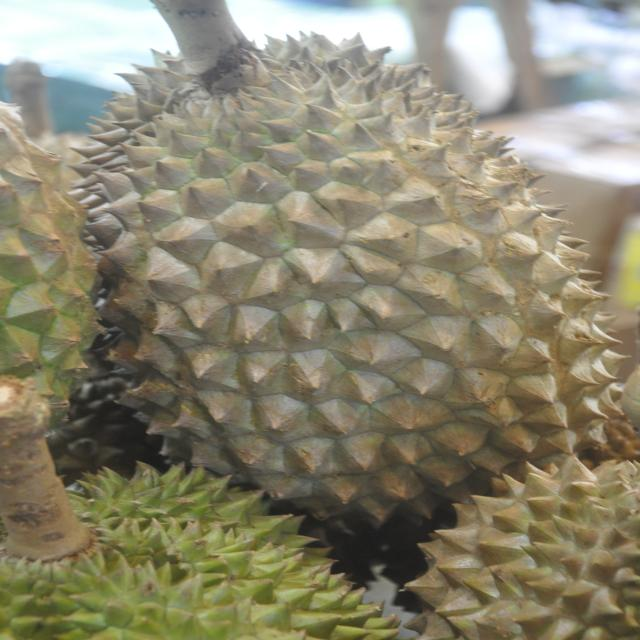mature: (45, 8, 617, 552)
